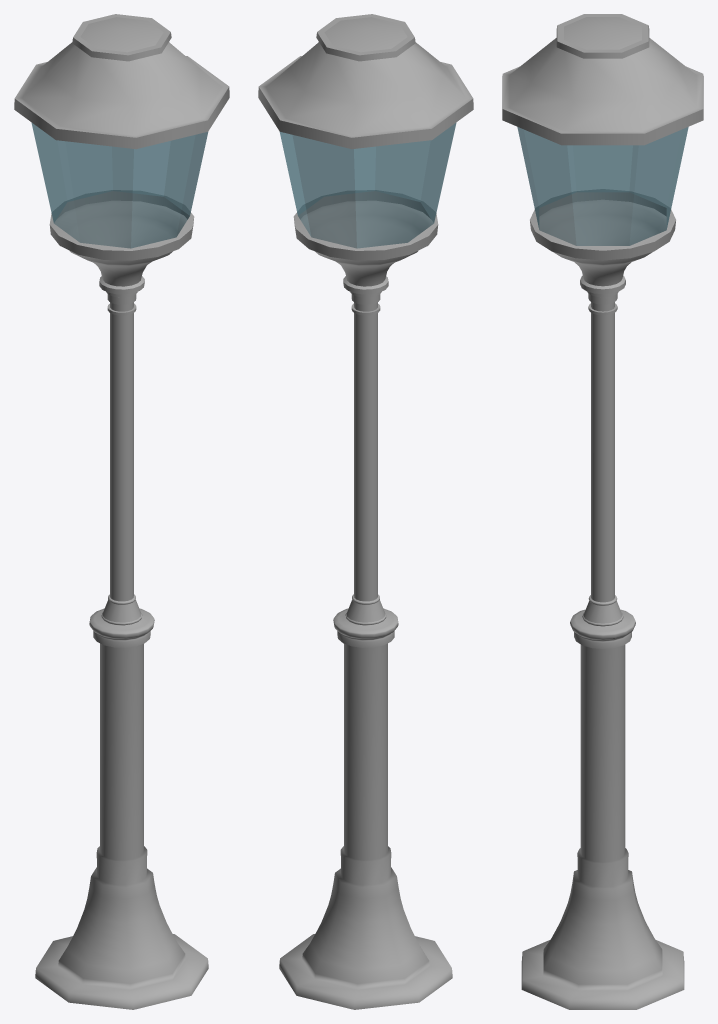
The model's file is Lamppost 1.fbx.
The picture shows the model from 3 angles, left to right: view 1: azimuth 30°, elevation 25°; view 2: azimuth 150°, elevation 25°; view 3: azimuth 270°, elevation 25°; orthographic projection.
Parts seen in each view (by area): view 1: LampPost; view 2: LampPost; view 3: LampPost.
Boxes of the visible parts, x1=… form: LampPost: x1=14, y1=14, x2=229, y2=1009; LampPost: x1=258, y1=14, x2=473, y2=1009; LampPost: x1=502, y1=14, x2=703, y2=1009.
Size of the model in its own units: 83.35 by 433 by 83.35.
